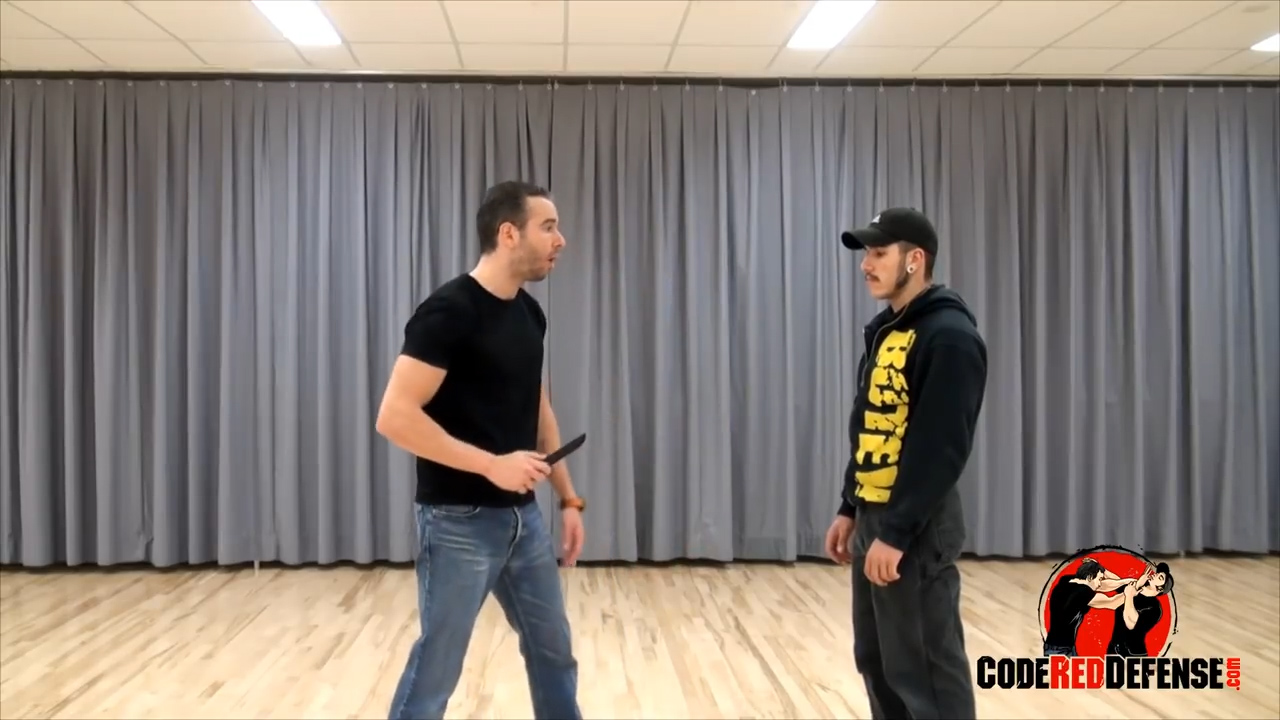knife: (512, 425, 591, 494)
